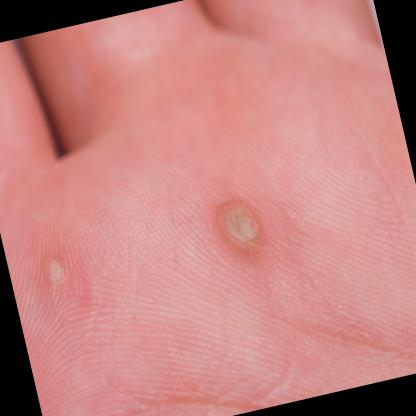Warts: (209, 194, 268, 264), (32, 241, 74, 304)
